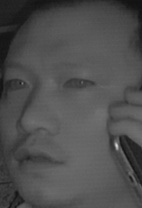eye: (62, 73, 95, 96), (3, 74, 31, 94)
mouth: (12, 140, 67, 175)
